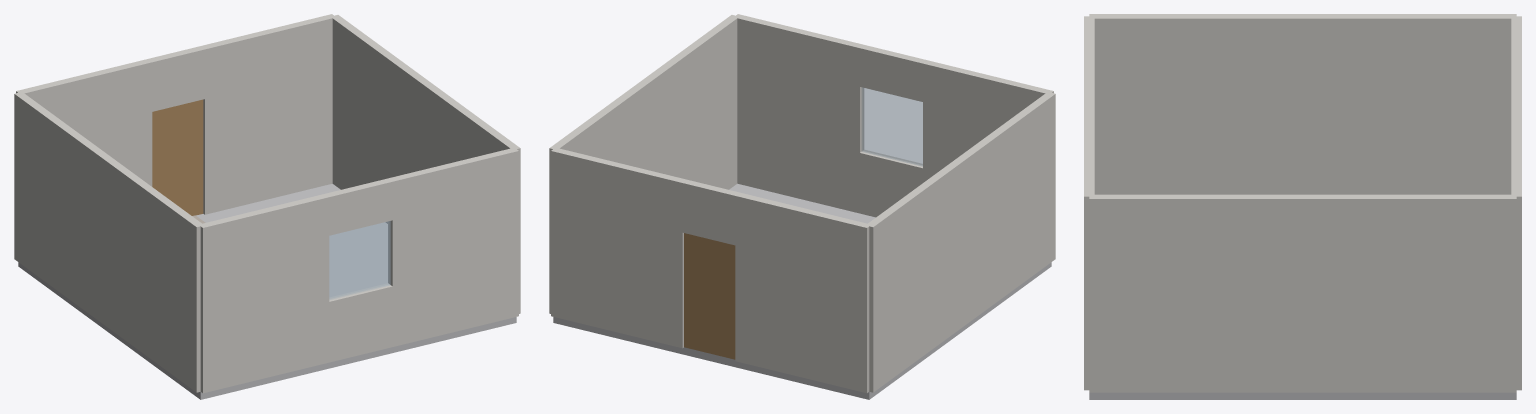
Rendered from explicit-elevation.gltf.
3 views of the same model, side by side, from view 1: azimuth 30°, elevation 25°; view 2: azimuth 150°, elevation 25°; view 3: azimuth 270°, elevation 25° (orthographic). The views are drawn at different scales.
Visible parts, largest first — view 1: WALL|F1|room|wW_seg0, WALL|F1|room|wS_seg0, WALL|F1|room|wN_seg2, WALL|F1|room|wS_seg3, WALL|F1|room|wE_seg0, WALL|F1|room|wN_seg0, FLOOR|F1|slab|0, DOOR|F1|room|0, WALL|F1|room|wS_seg1, WINDOW|F1|room|0, WALL|F1|room|wN_seg1, WALL|F1|room|wS_seg2; view 2: WALL|F1|room|wW_seg0, WALL|F1|room|wN_seg0, WALL|F1|room|wN_seg2, WALL|F1|room|wS_seg3, WALL|F1|room|wE_seg0, WALL|F1|room|wS_seg0, DOOR|F1|room|0, FLOOR|F1|slab|0, WINDOW|F1|room|0, WALL|F1|room|wS_seg1, WALL|F1|room|wN_seg1, WALL|F1|room|wS_seg2; view 3: WALL|F1|room|wE_seg0, WALL|F1|room|wW_seg0, FLOOR|F1|slab|0, WALL|F1|room|wN_seg2, WALL|F1|room|wS_seg3, WALL|F1|room|wN_seg0, WALL|F1|room|wS_seg0, WALL|F1|room|wS_seg2.
Boxes of the visible parts, <box> form: WALL|F1|room|wW_seg0: <box>14,92,201,392</box>; WALL|F1|room|wS_seg0: <box>199,194,329,393</box>; WALL|F1|room|wN_seg2: <box>200,14,335,214</box>; WALL|F1|room|wS_seg3: <box>388,148,518,346</box>; WALL|F1|room|wE_seg0: <box>332,15,520,313</box>; WALL|F1|room|wN_seg0: <box>16,59,152,186</box>; FLOOR|F1|slab|0: <box>18,183,516,399</box>; DOOR|F1|room|0: <box>152,99,203,215</box>; WALL|F1|room|wS_seg1: <box>329,283,392,362</box>; WINDOW|F1|room|0: <box>329,221,390,299</box>; WALL|F1|room|wN_seg1: <box>148,46,204,111</box>; WALL|F1|room|wS_seg2: <box>325,178,392,235</box>; WALL|F1|room|wW_seg0: <box>867,93,1055,392</box>; WALL|F1|room|wN_seg0: <box>735,192,870,393</box>; WALL|F1|room|wN_seg2: <box>551,148,686,348</box>; WALL|F1|room|wS_seg3: <box>734,14,864,213</box>; WALL|F1|room|wE_seg0: <box>549,15,738,313</box>; WALL|F1|room|wS_seg0: <box>923,60,1053,182</box>; DOOR|F1|room|0: <box>684,233,735,359</box>; FLOOR|F1|slab|0: <box>553,183,1051,399</box>; WINDOW|F1|room|0: <box>862,87,922,166</box>; WALL|F1|room|wS_seg1: <box>860,149,922,217</box>; WALL|F1|room|wN_seg1: <box>682,179,739,245</box>; WALL|F1|room|wS_seg2: <box>860,45,927,101</box>; WALL|F1|room|wE_seg0: <box>1089,194,1516,392</box>; WALL|F1|room|wW_seg0: <box>1089,14,1516,194</box>; FLOOR|F1|slab|0: <box>1089,392,1516,399</box>; WALL|F1|room|wN_seg2: <box>1511,121,1521,390</box>; WALL|F1|room|wS_seg3: <box>1084,124,1094,390</box>; WALL|F1|room|wN_seg0: <box>1511,16,1521,91</box>; WALL|F1|room|wS_seg0: <box>1084,16,1094,88</box>; WALL|F1|room|wS_seg2: <box>1084,88,1094,124</box>.
Size of what is drawn, in the model's own units: 6.15 by 3.15 by 6.15.
